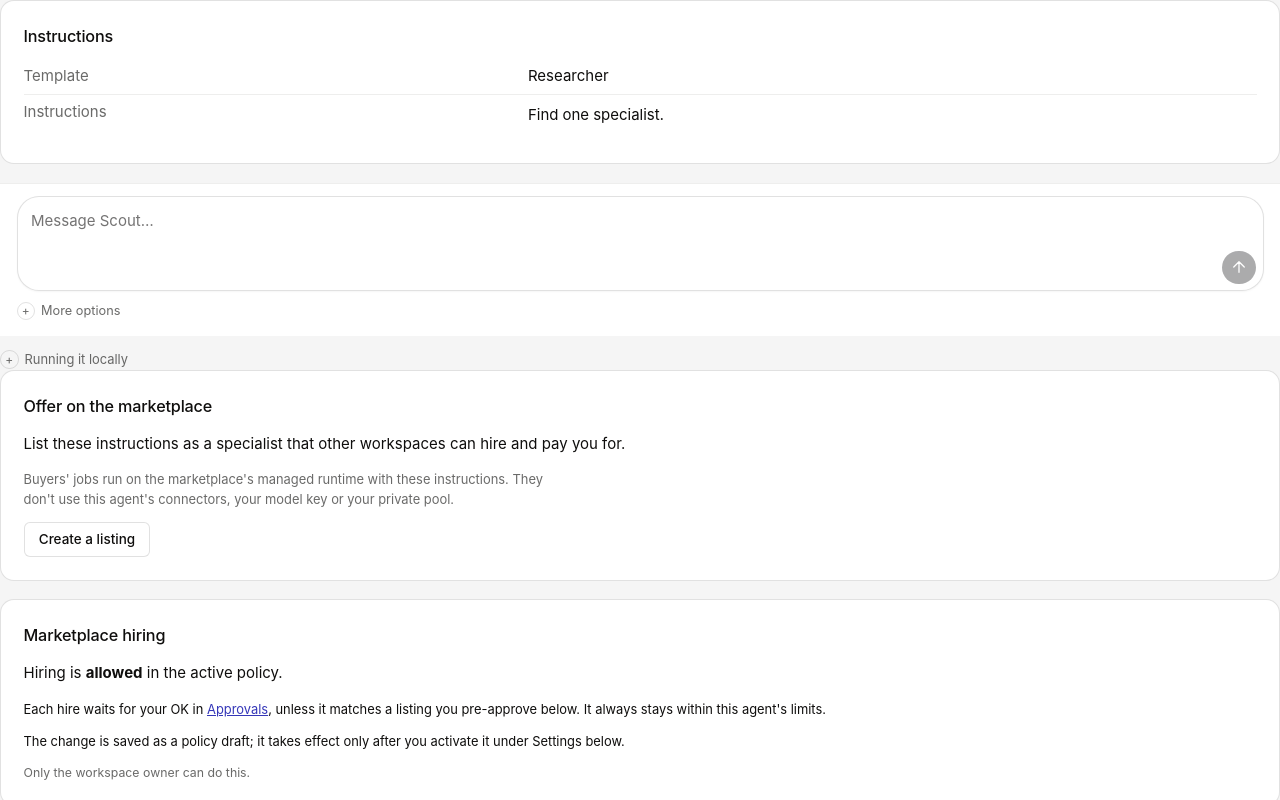
Scenario: custom agent page › lets a guest run jobs but not edit instructions or hiring
This screenshot has width=1280, height=800.
Type "Find a reviewer." into the text box labelled "Message Scout" at (623, 244), box [31, 203, 1214, 284]
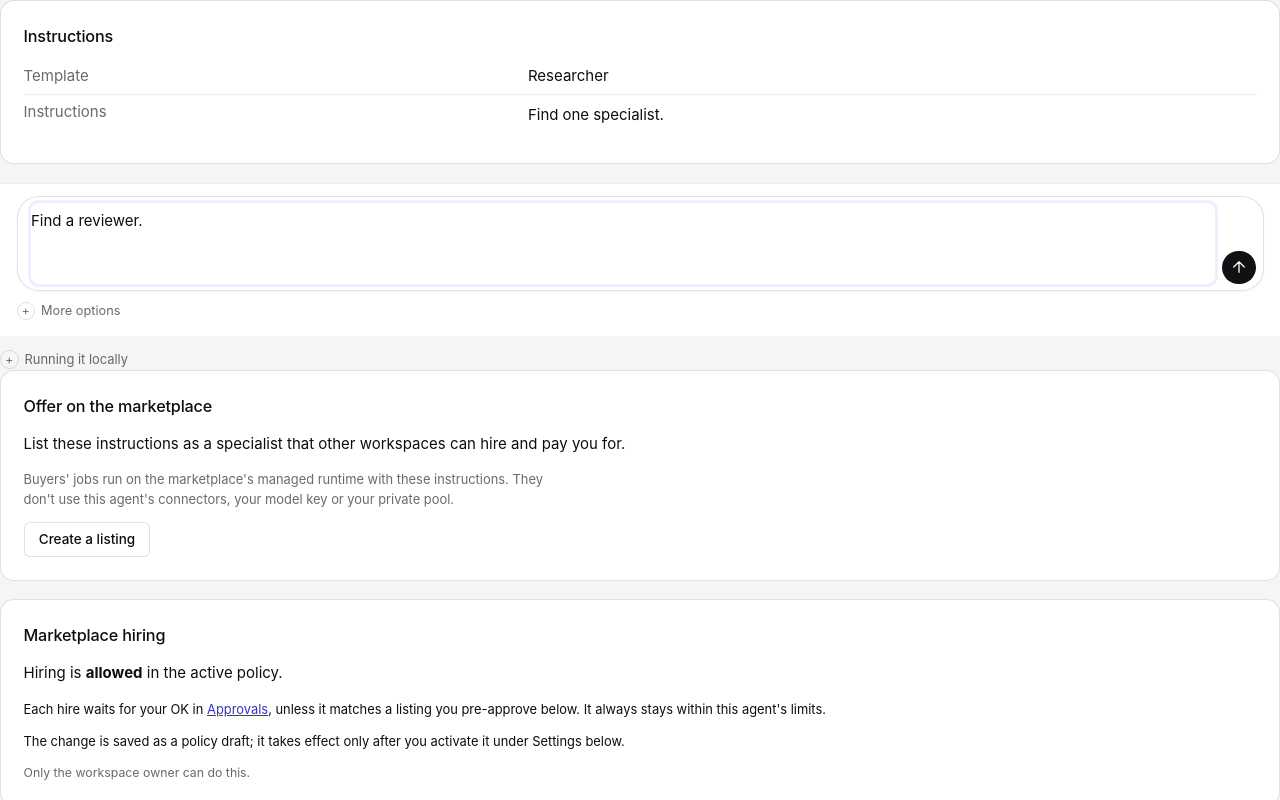
expect the text "Only the workspace owner can do this." is shown: met, box [24, 765, 250, 780]
expect the button named "Send job" is enabled: met, box [1222, 250, 1256, 284]
